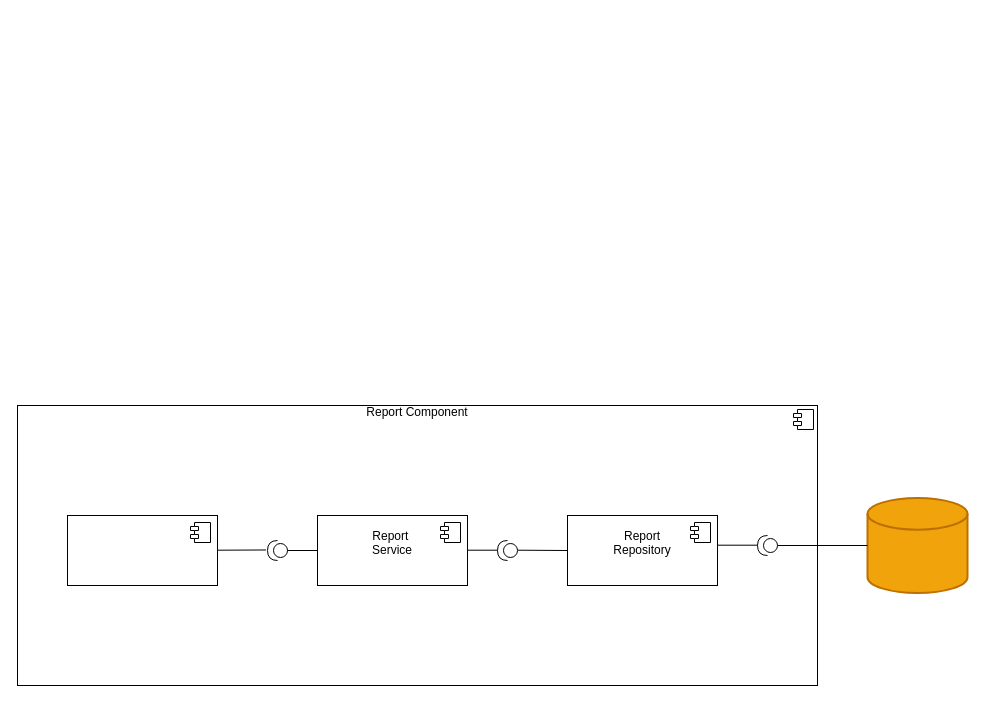
The diagram is 986 pixels wide and 704 high, and some of its shapes have lost their labels. The shapes that lost their labels are listed below. From the top down, each one's centre as x and y in pixels, then its label:
[142,550]: Report controler
[917,545]: DataBase
